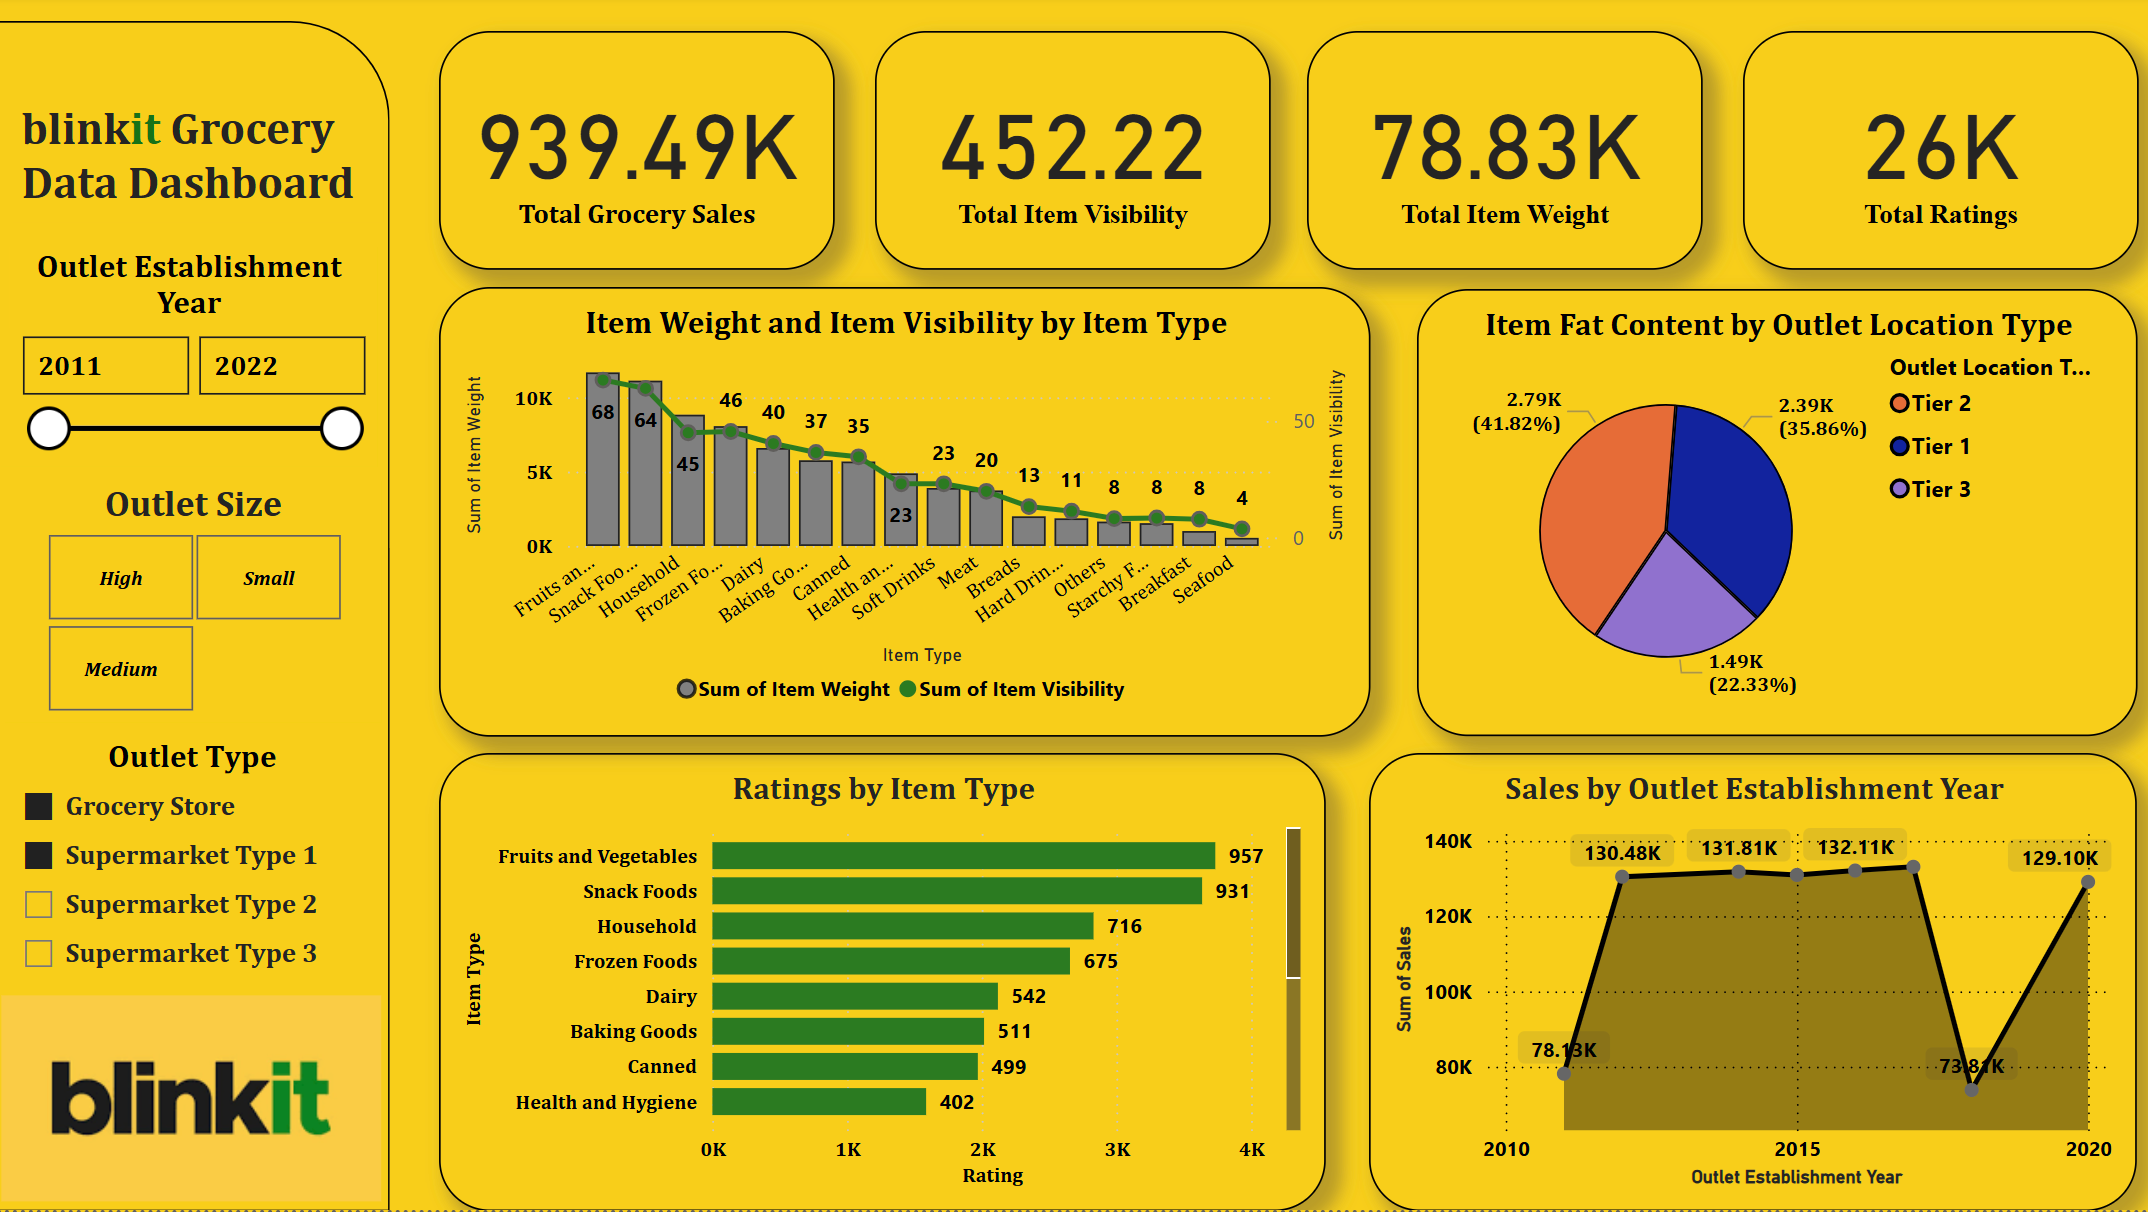

This screenshot's page, from the dashboard's own definition file:
{"tool":"powerbi","page":{"name":"BlinkIt_1","canvas":[1280,720],"ordinal":0},"visuals":[{"type":"shape","box":[0,15.9,235.1,705.4],"z":0},{"type":"textbox","box":[11.5,58.6,219.3,76.5],"z":1000},{"type":"slicer","title":"Outlet Size","fields":{"Values":["BlinkIT Grocery Data.Outlet Size"]},"box":[7.6,288.1,223.1,142.8],"z":2000},{"type":"image","box":[0,587.8,235.1,132.1],"z":3000},{"type":"slicer","title":"Outlet Establishment Year","fields":{"Values":["BlinkIT Grocery Data.Outlet Establishment Year"]},"box":[5.1,149.2,223.1,130],"z":4000},{"type":"slicer","title":"Outlet Type","fields":{"Values":["BlinkIT Grocery Data.Outlet Type"]},"box":[6.4,439.8,224.4,147.9],"z":5000},{"type":"card","fields":{"Values":["Sum(BlinkIT Grocery Data.Item Visibility)"]},"box":[522.7,21.7,234.6,141.5],"z":6000},{"type":"card","fields":{"Values":["Sum(BlinkIT Grocery Data.Item Weight)"]},"box":[779,21.7,234.6,141.5],"z":7000},{"type":"card","fields":{"Values":["Sum(BlinkIT Grocery Data.Sales)"]},"box":[263.9,21.7,234.6,141.5],"z":8000},{"type":"card","fields":{"Values":["Sum(BlinkIT Grocery Data.Rating)"]},"box":[1036.5,21.7,234.6,141.5],"z":9000},{"type":"stackedAreaChart","title":"Sales by Outlet Establishment Year","fields":{"Y":["Sum(BlinkIT Grocery Data.Sales)"],"Category":["BlinkIT Grocery Data.Outlet Establishment Year"]},"box":[815.9,448.8,455.1,271.6],"z":10000},{"type":"barChart","title":"Ratings by Item Type","fields":{"Y":["Sum(BlinkIT Grocery Data.Rating)"],"Category":["BlinkIT Grocery Data.Item Type"]},"box":[263.9,448.8,525.3,271.6],"z":11000},{"type":"pieChart","title":" Item Fat Content by Outlet Location Type","fields":{"Y":["CountNonNull(BlinkIT Grocery Data.Item Fat Content)"],"Category":["BlinkIT Grocery Data.Outlet Location Type"]},"box":[844,174.7,427.1,265.2],"z":12000},{"type":"lineClusteredColumnComboChart","title":"Item Weight and Item Visibility by Item Type","fields":{"Y":["Sum(BlinkIT Grocery Data.Item Weight)"],"Y2":["Sum(BlinkIT Grocery Data.Item Visibility)"],"Category":["BlinkIT Grocery Data.Item Type"]},"box":[263.9,173.4,552,266.5],"z":13000}]}

Visuals, with their boxes in screenshot pixels (x1, y1, x2, y2), scaled from the page's 1280x720 canvas onto the 2148x1212 screenshot:
shape: [0, 27, 395, 1211]
textbox: [19, 99, 387, 227]
"Outlet Size" slicer: [13, 485, 387, 725]
image: [0, 989, 395, 1211]
"Outlet Establishment Year" slicer: [9, 251, 383, 470]
"Outlet Type" slicer: [11, 740, 387, 989]
card - Sum(BlinkIT Grocery Data.Item Visibility): [877, 37, 1271, 275]
card - Sum(BlinkIT Grocery Data.Item Weight): [1307, 37, 1701, 275]
card - Sum(BlinkIT Grocery Data.Sales): [443, 37, 837, 275]
card - Sum(BlinkIT Grocery Data.Rating): [1739, 37, 2133, 275]
"Sales by Outlet Establishment Year" stackedAreaChart: [1369, 755, 2133, 1211]
"Ratings by Item Type" barChart: [443, 755, 1324, 1211]
" Item Fat Content by Outlet Location Type" pieChart: [1416, 294, 2133, 740]
"Item Weight and Item Visibility by Item Type" lineClusteredColumnComboChart: [443, 292, 1369, 740]
